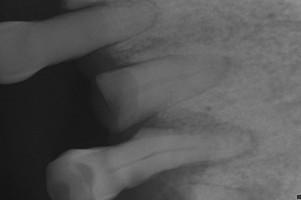Dental Caries: (144, 110, 259, 187)
Furcation Involvement: (210, 55, 236, 89), (237, 182, 284, 200)
